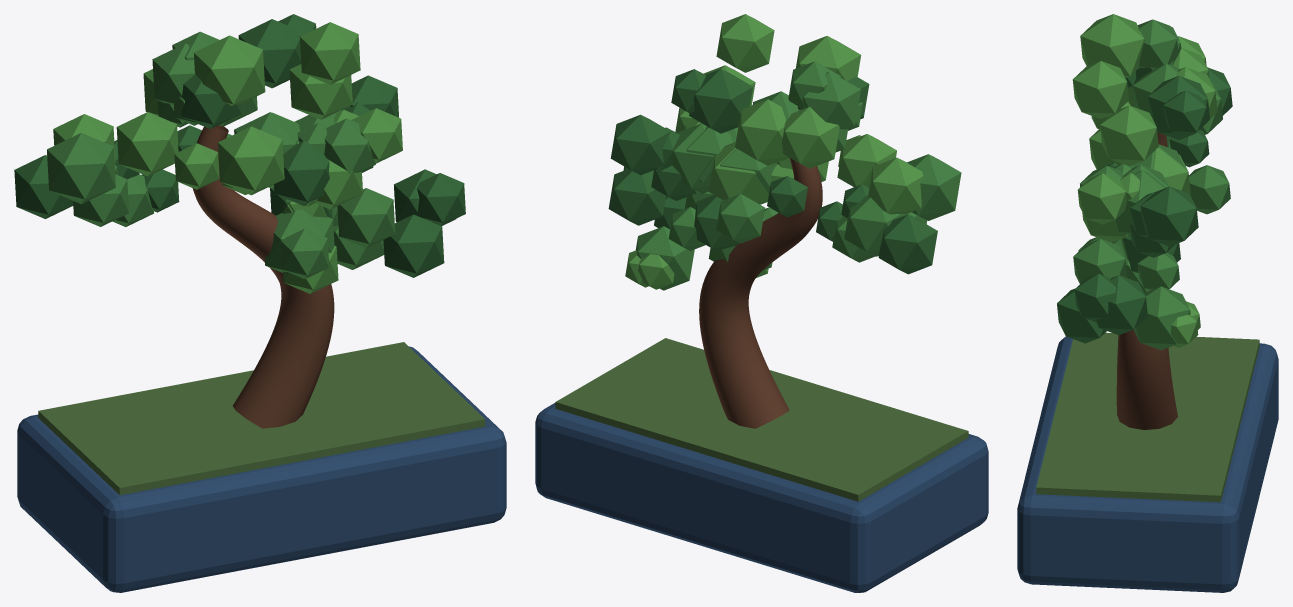
File: decor_bonsai.glb
3 views of the same model, side by side, from view 1: azimuth 30°, elevation 25°; view 2: azimuth 150°, elevation 25°; view 3: azimuth 270°, elevation 25° (orthographic). The views are drawn at different scales.
Parts seen in each view (by area): view 1: decor_bonsai; view 2: decor_bonsai; view 3: decor_bonsai.
Boxes of the visible parts, left/top/right/bottom form: decor_bonsai: left=14, top=14, right=506, bottom=592; decor_bonsai: left=535, top=14, right=988, bottom=592; decor_bonsai: left=1017, top=14, right=1278, bottom=592.
Bounding box in the file's own units: 0.1191 × 0.1398 × 0.0703.
